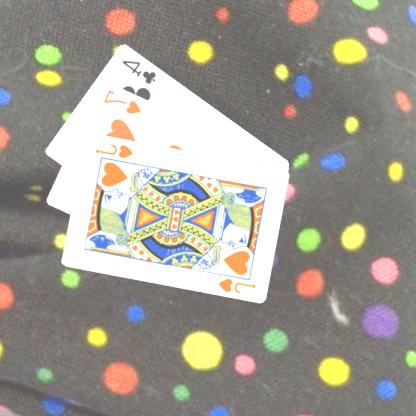4C: (121, 57, 160, 86)
7H: (102, 86, 144, 116)
JH: (94, 140, 136, 160), (217, 275, 258, 294)
